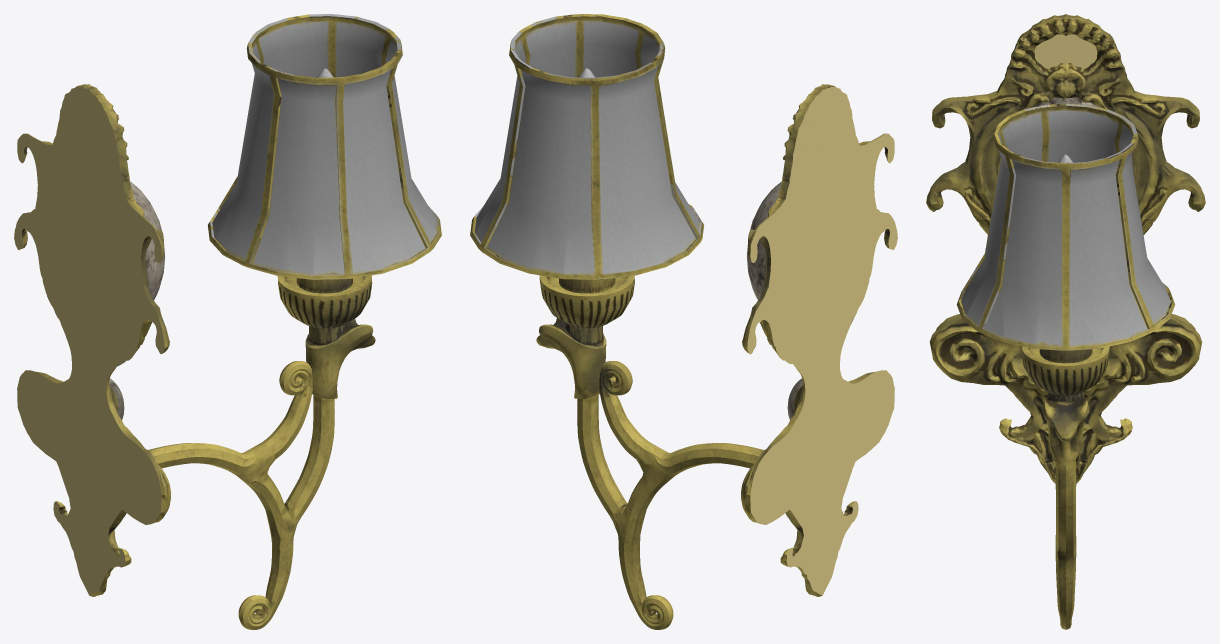
Rendered from candeeiro_1.glb.
The picture shows the model from 3 angles, left to right: view 1: azimuth 30°, elevation 25°; view 2: azimuth 150°, elevation 25°; view 3: azimuth 270°, elevation 25°; orthographic projection. The views are drawn at different scales.
Parts seen in each view (by area): view 1: Antique_Wall_Light_01_4, Group_0; view 2: Antique_Wall_Light_01_4, Group_0; view 3: Antique_Wall_Light_01_4, Group_0.
Part boxes in pixels (x1,y1,x2,y2): Antique_Wall_Light_01_4: (22, 14, 441, 629); Group_0: (14, 86, 164, 595); Antique_Wall_Light_01_4: (470, 14, 889, 629); Group_0: (747, 86, 897, 595); Antique_Wall_Light_01_4: (926, 14, 1205, 629); Group_0: (952, 34, 1199, 416).
Bounding box in the file's own units: 0.8761 × 1.41 × 0.6636.
Materials: 2 (1 with a texture image).
